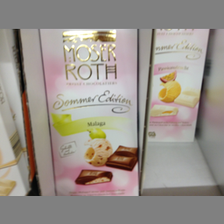chocolate: (40, 29, 139, 196), (146, 29, 209, 141)
